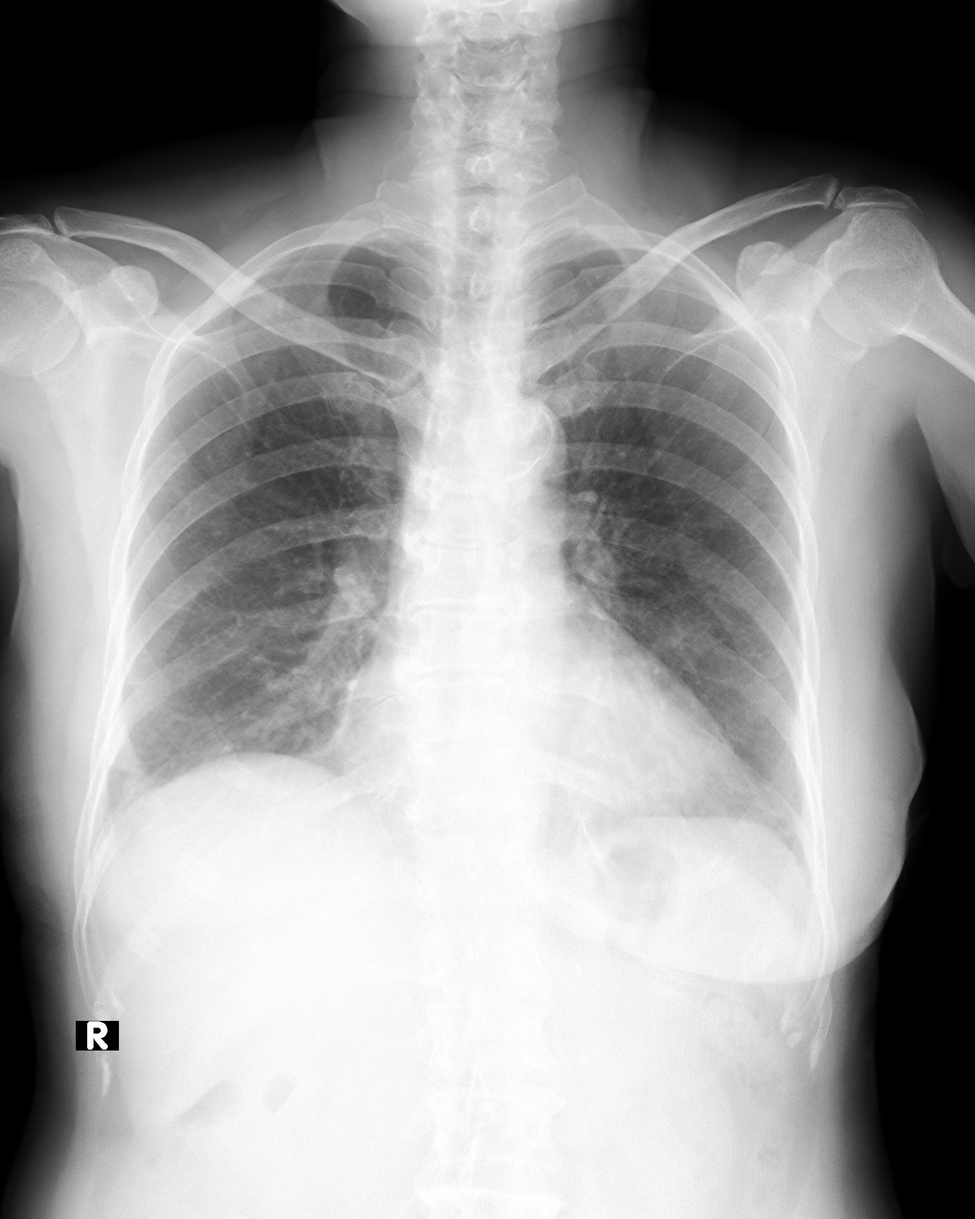Aortic enlargement: (465, 391, 568, 505)
Cardiomegaly: (329, 672, 755, 825)
